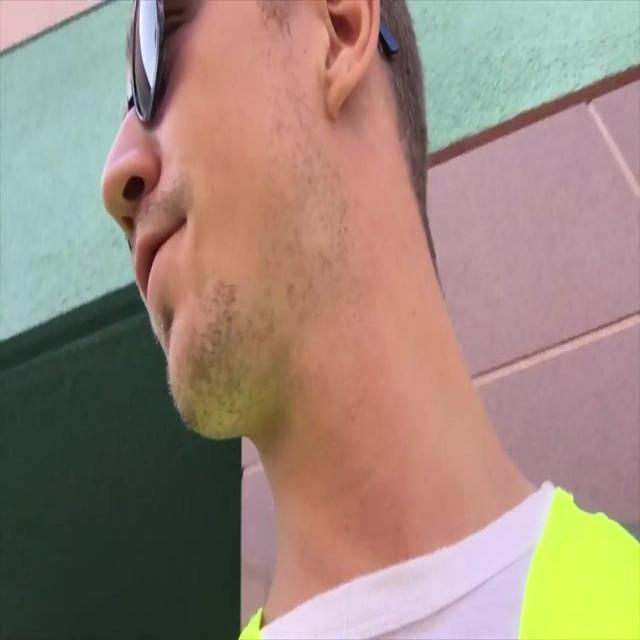Safety-Helmet: (232, 458, 639, 640)
